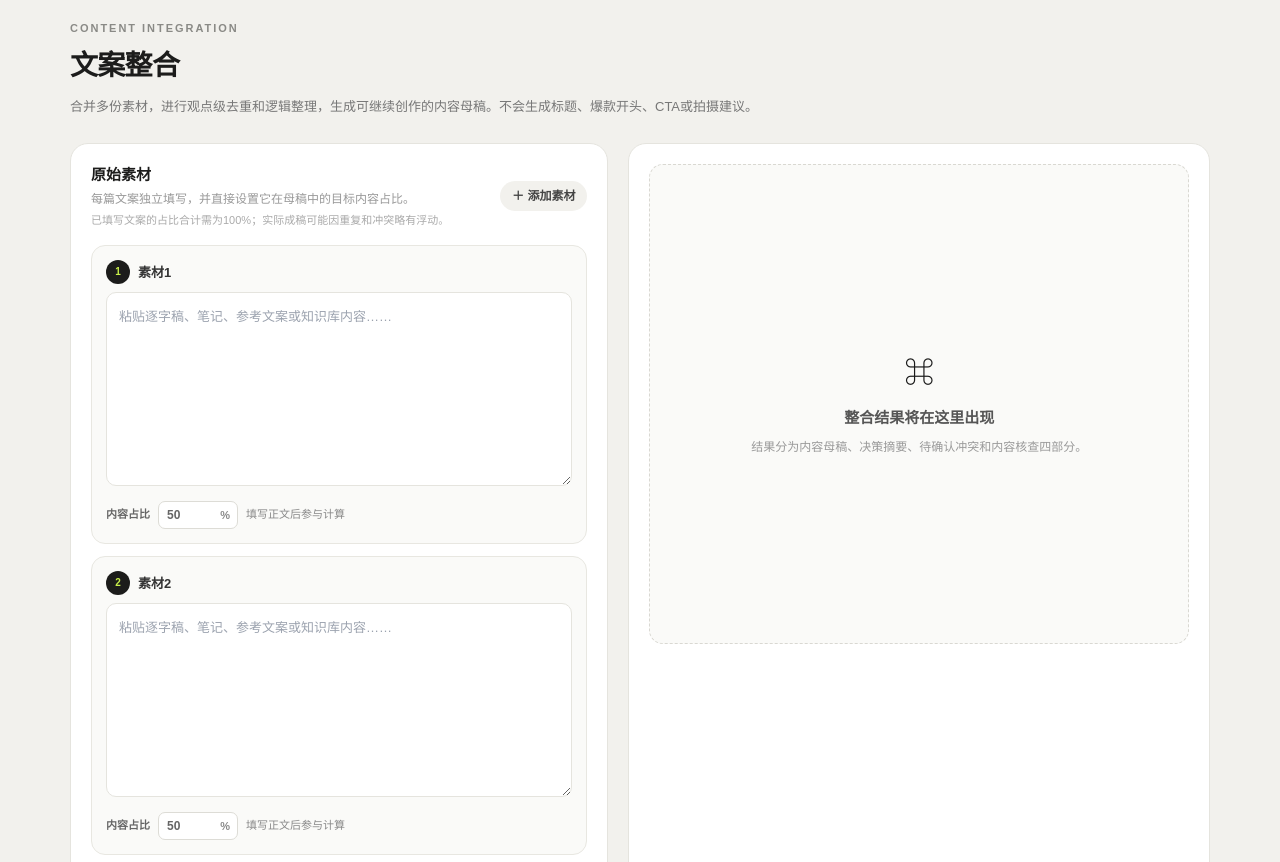
Test: 已填写文案内容占比合计不是100%时不发送请求
Type "第一篇文案" into the text box named "素材正文" at (339, 388), box [106,292,572,486]
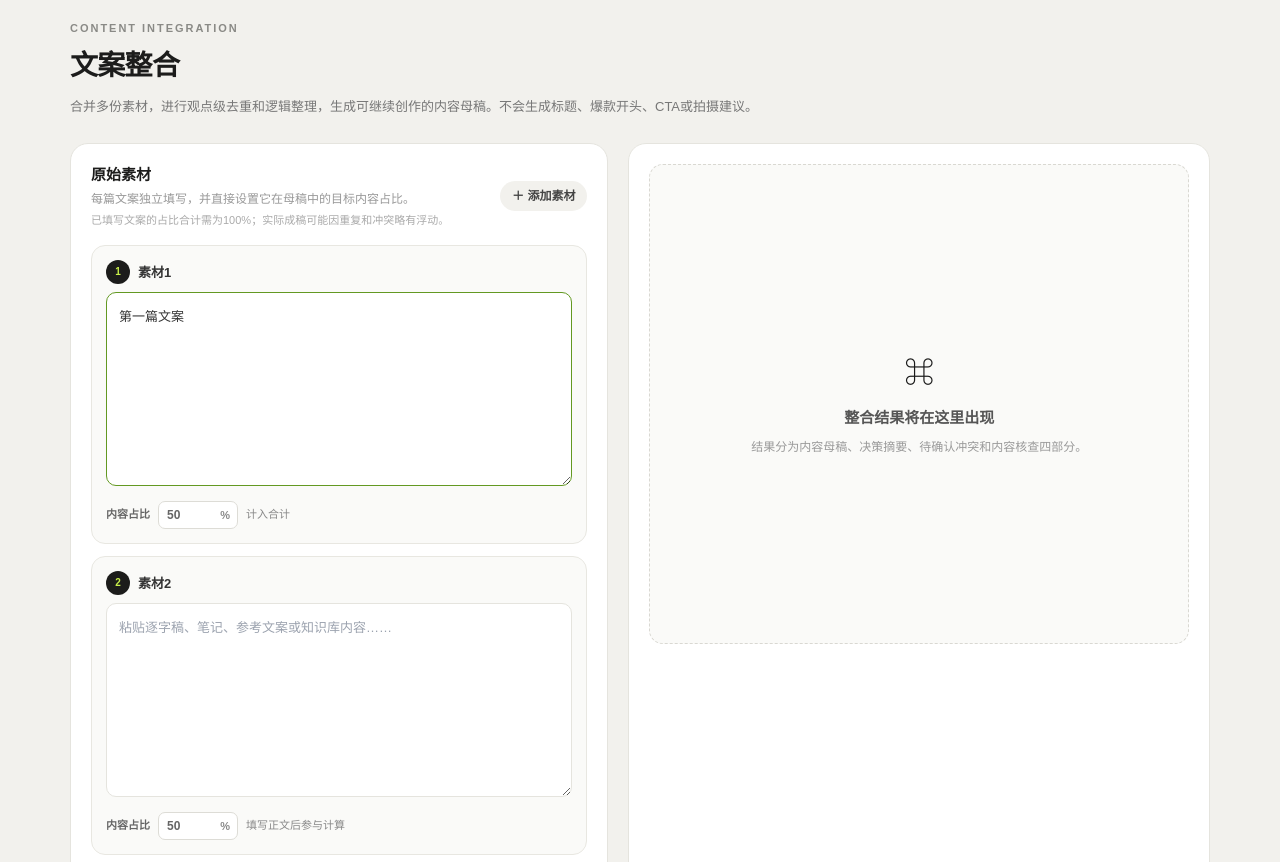
Type "第二篇文案" into the text box named "素材正文" at (339, 700), box [106,602,572,796]
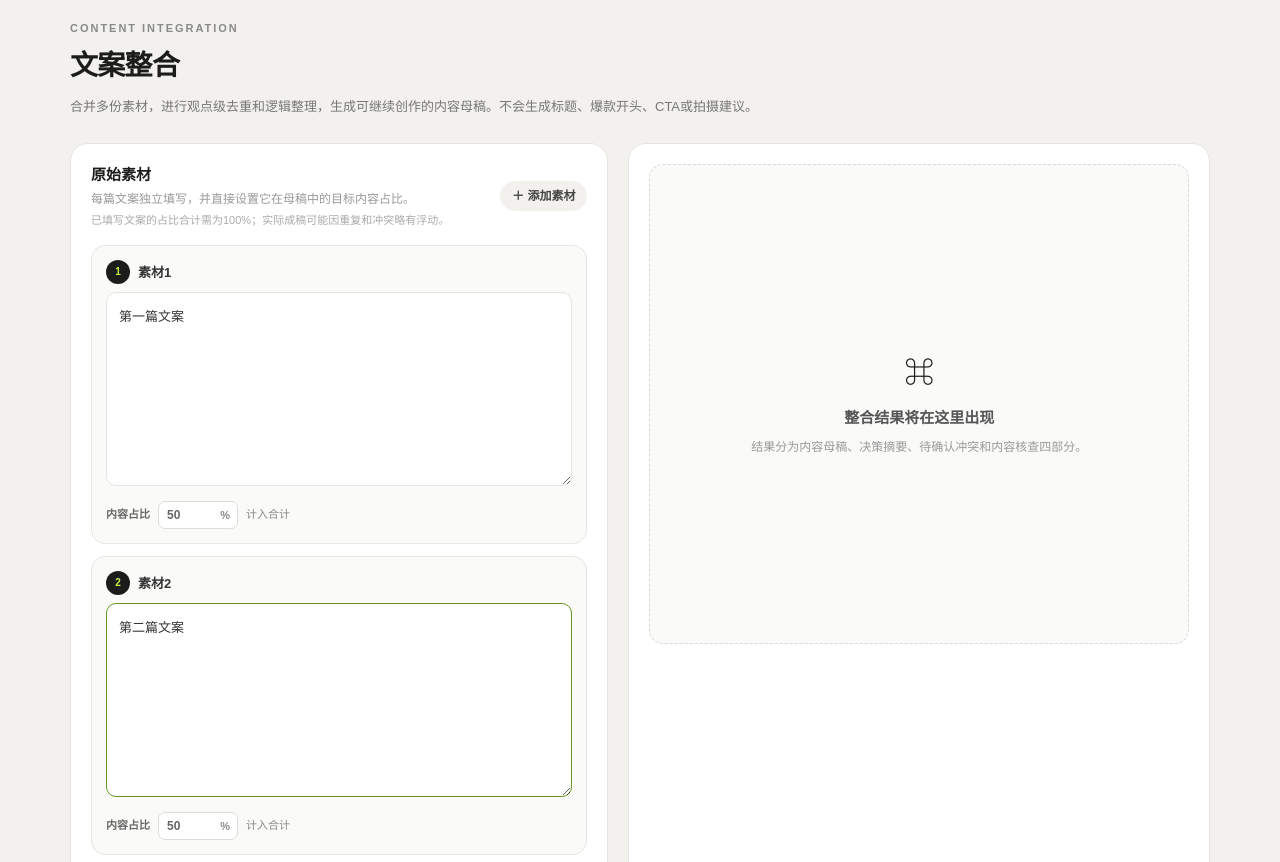
Replace the text in the 1st number field labelled "内容占比 %" with "40" at (198, 514), box [158,500,238,528]
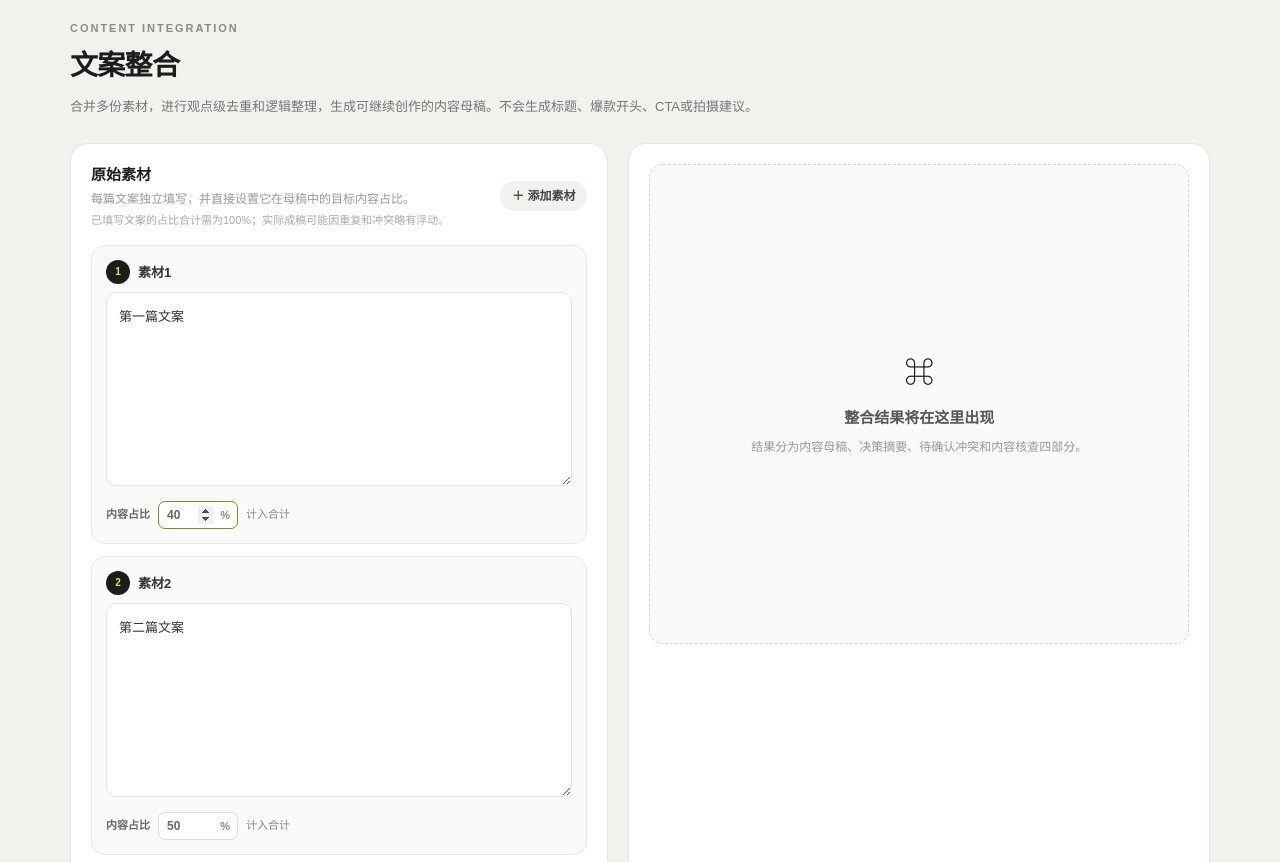
Replace the text in the 2nd number field labelled "内容占比 %" with "40" at (198, 826), box [158,812,238,840]
(page scrolled)
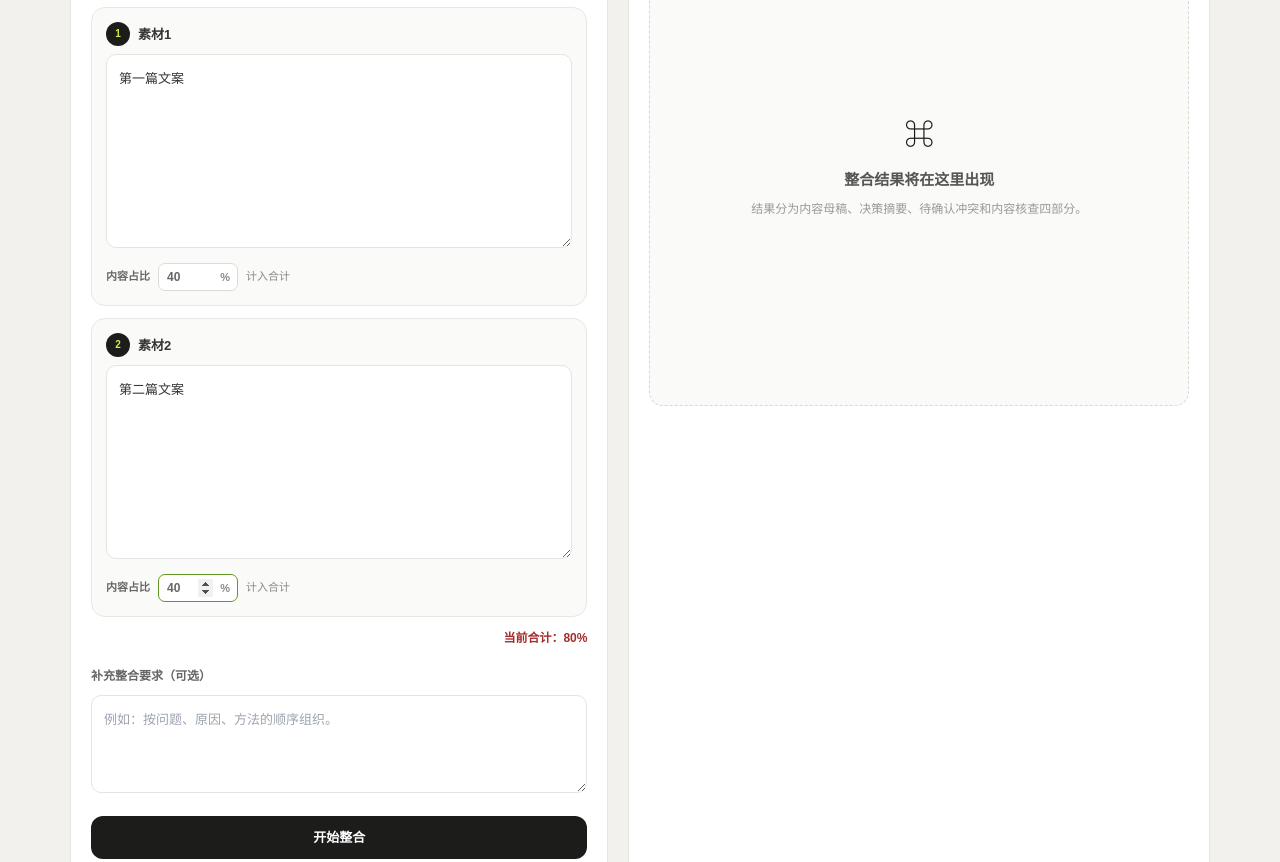
Click the button "开始整合" at (339, 837), box [91,816,588,859]
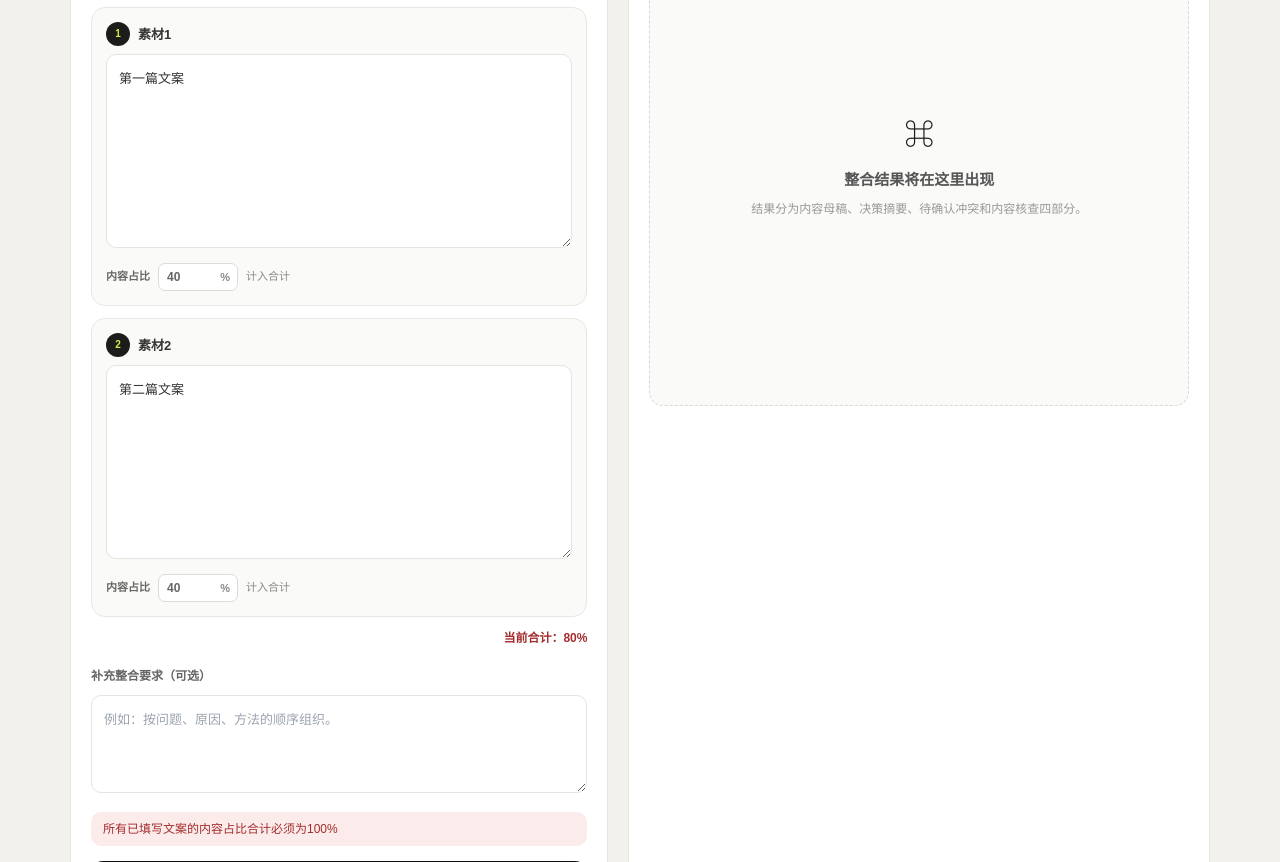
Expected: the message reads "所有已填写文案的内容占比合计必须为100%", [103,822,338,836]
